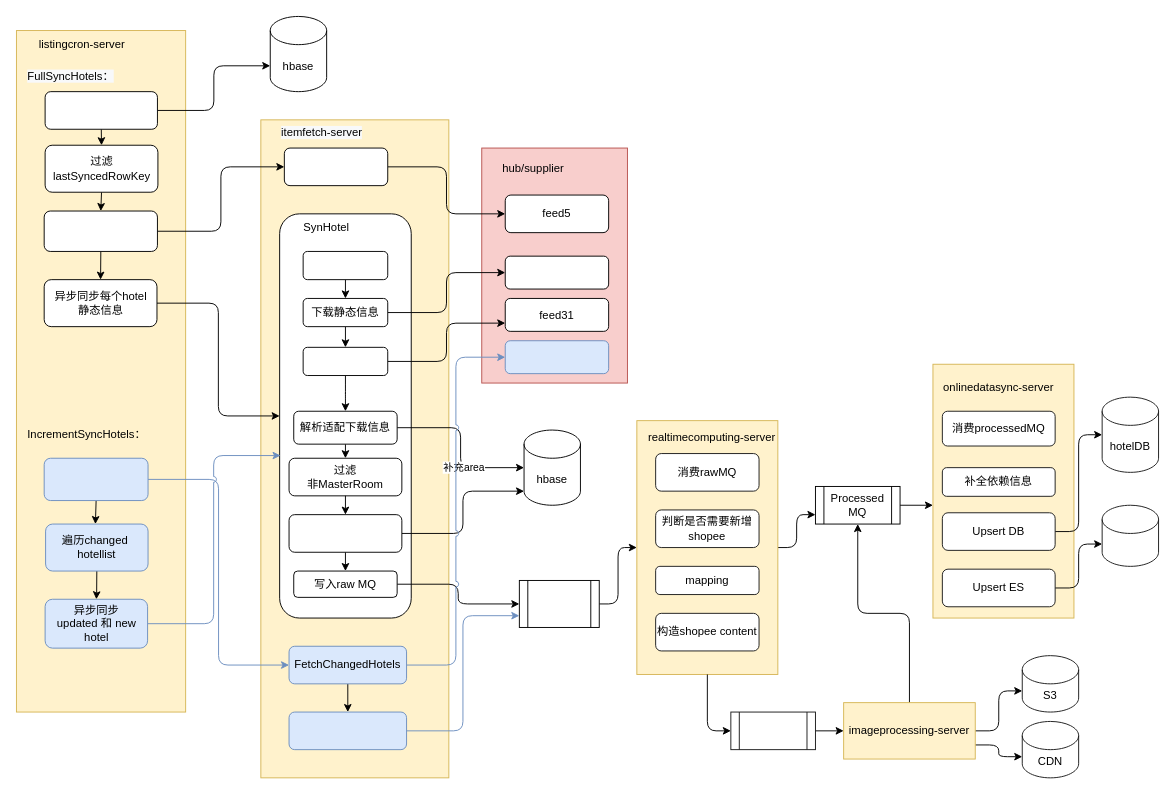
Some shapes in this 1175 by 794 pixel diagram are drawn without their labels. The shapes that lost their labels are listed below. From the top down, each one's centre as x and y in pixels, then its label:
At (x=100, y=110): "获取全量area".
At (x=335, y=166): "GetHotelList".
At (x=100, y=230): "获取每个area的hotellist".
At (x=345, y=265): "遍历多语言".
At (x=556, y=272): "feed19".
At (x=345, y=361): "下载附近信息".
At (x=556, y=357): "feed32".
At (x=95, y=479): "拉取变换 hotellist".
At (x=345, y=533): "与hbase做diff upsert".
At (x=1130, y=535): "ES".
At (x=558, y=603): "Raw MQ".
At (x=347, y=730): "遍历下线的hotel".
At (x=772, y=730): "image-MQ".
